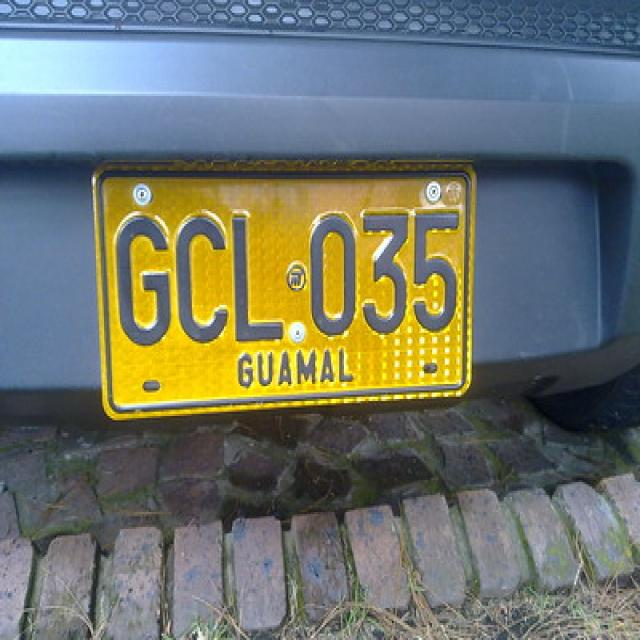placa_carro: (95, 159, 481, 430)
